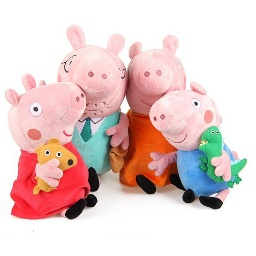Peppa: (2, 73, 97, 221)
